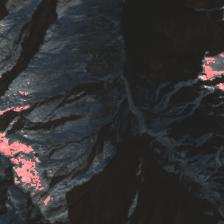landslides: (102, 140, 119, 168), (145, 153, 168, 168)
